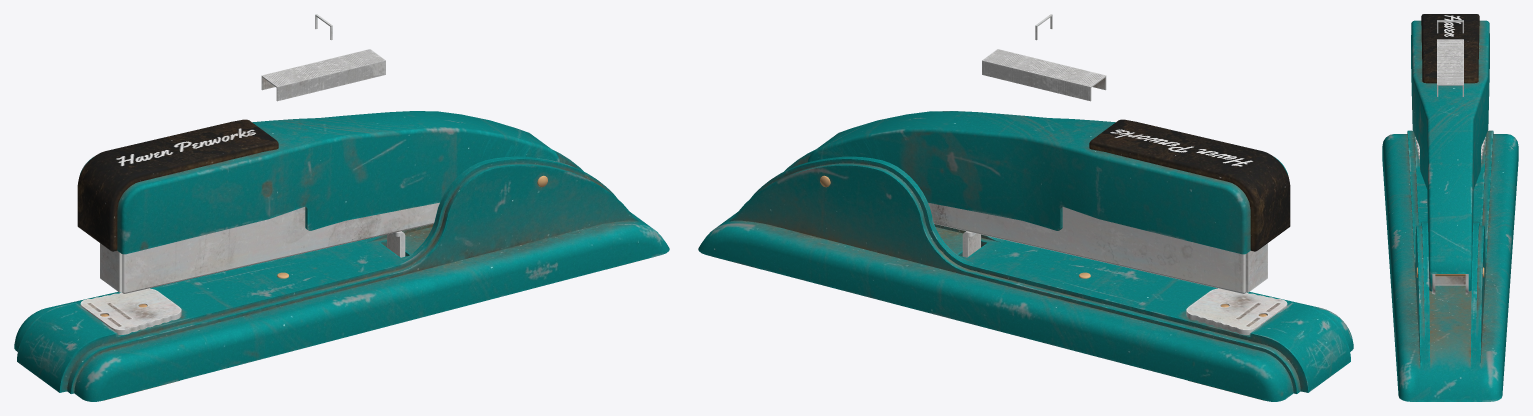
Rendered from ph_vintage_stapler.glb.
3 renders of one model, left to right at view 1: azimuth 30°, elevation 25°; view 2: azimuth 150°, elevation 25°; view 3: azimuth 270°, elevation 25°, orthographic. The views are drawn at different scales.
Visible parts, largest first — view 1: ph_vintage_stapler; view 2: ph_vintage_stapler; view 3: ph_vintage_stapler.
Boxes of the visible parts, bbox=[...] form: ph_vintage_stapler: bbox=[14, 14, 669, 401]; ph_vintage_stapler: bbox=[698, 14, 1353, 401]; ph_vintage_stapler: bbox=[1382, 14, 1518, 401].
Bounding box in the file's own units: 0.2085 × 0.0953 × 0.0474.
Materials: 1 (1 with a texture image).
